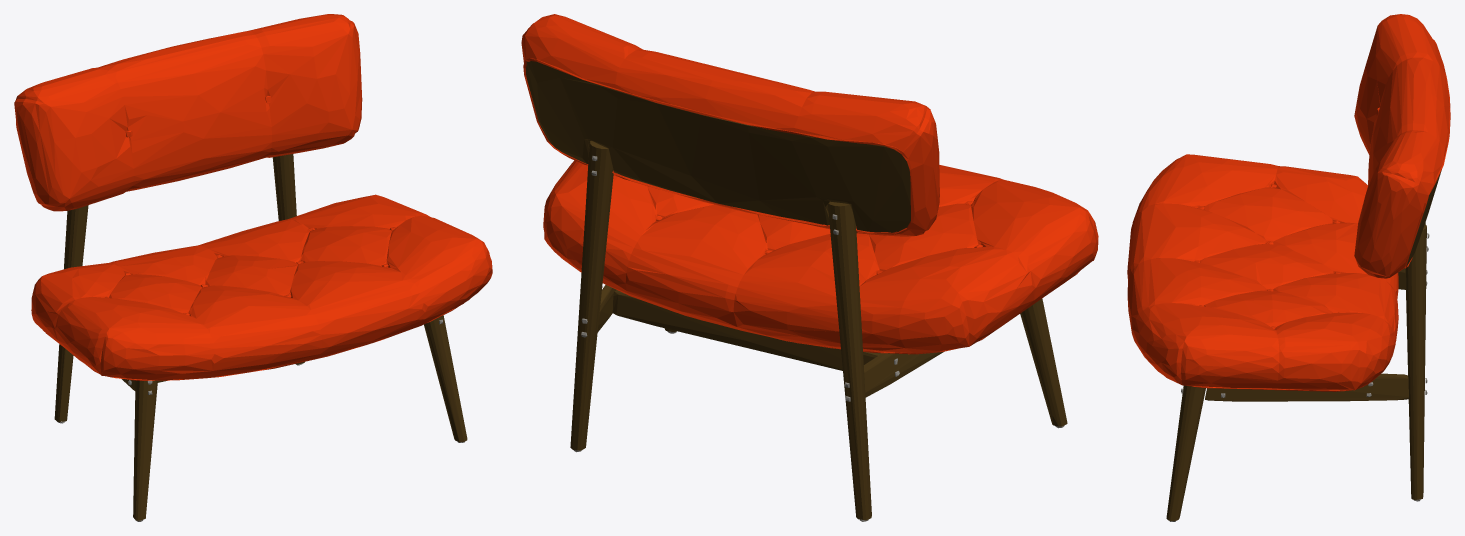
The model's file is SheenChair.glb.
The picture shows the model from 3 angles, left to right: view 1: azimuth 30°, elevation 25°; view 2: azimuth 150°, elevation 25°; view 3: azimuth 270°, elevation 25°; orthographic projection. The views are drawn at different scales.
Visible parts, largest first — view 1: SheenChair_fabric, SheenChair_wood; view 2: SheenChair_fabric, SheenChair_wood; view 3: SheenChair_fabric, SheenChair_wood.
Boxes of the visible parts, x1,y1,x2,y2 form: SheenChair_fabric: [14, 14, 492, 380]; SheenChair_wood: [54, 154, 467, 520]; SheenChair_fabric: [521, 14, 1098, 354]; SheenChair_wood: [526, 61, 1067, 520]; SheenChair_fabric: [1127, 14, 1450, 391]; SheenChair_wood: [1166, 170, 1441, 520].
Size of the model in its own units: 0.8263 by 0.6856 by 0.57.
